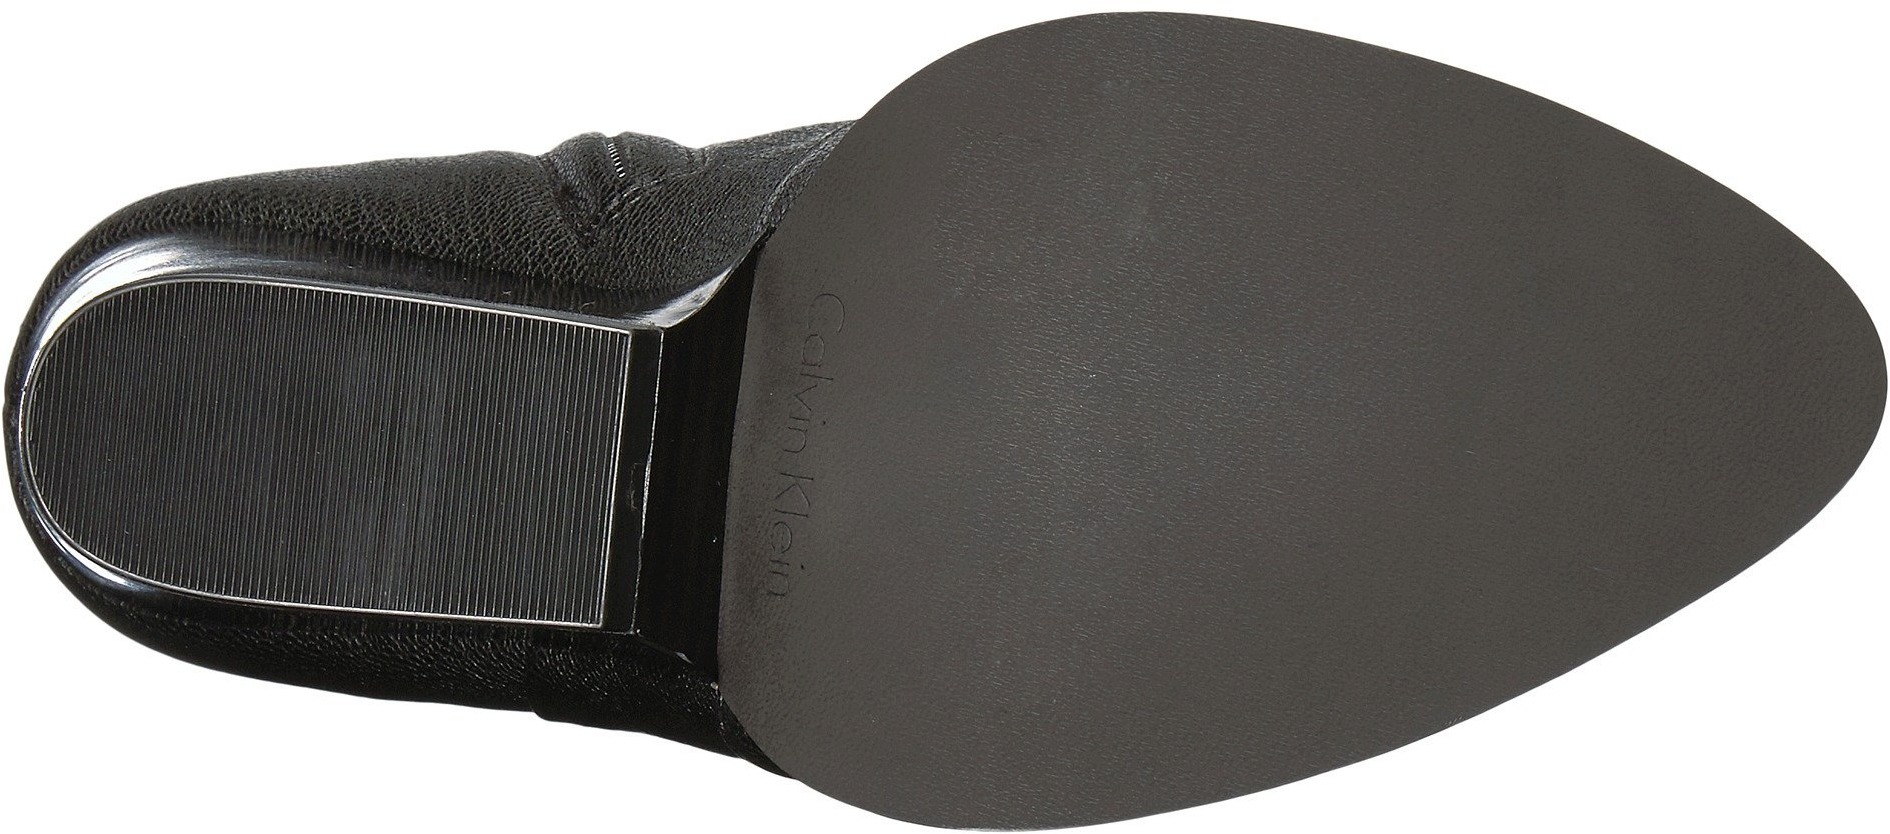line: (386, 360, 607, 570), (88, 356, 243, 523), (243, 363, 401, 523)
other: (1483, 240, 1791, 544), (1357, 83, 1513, 228)
